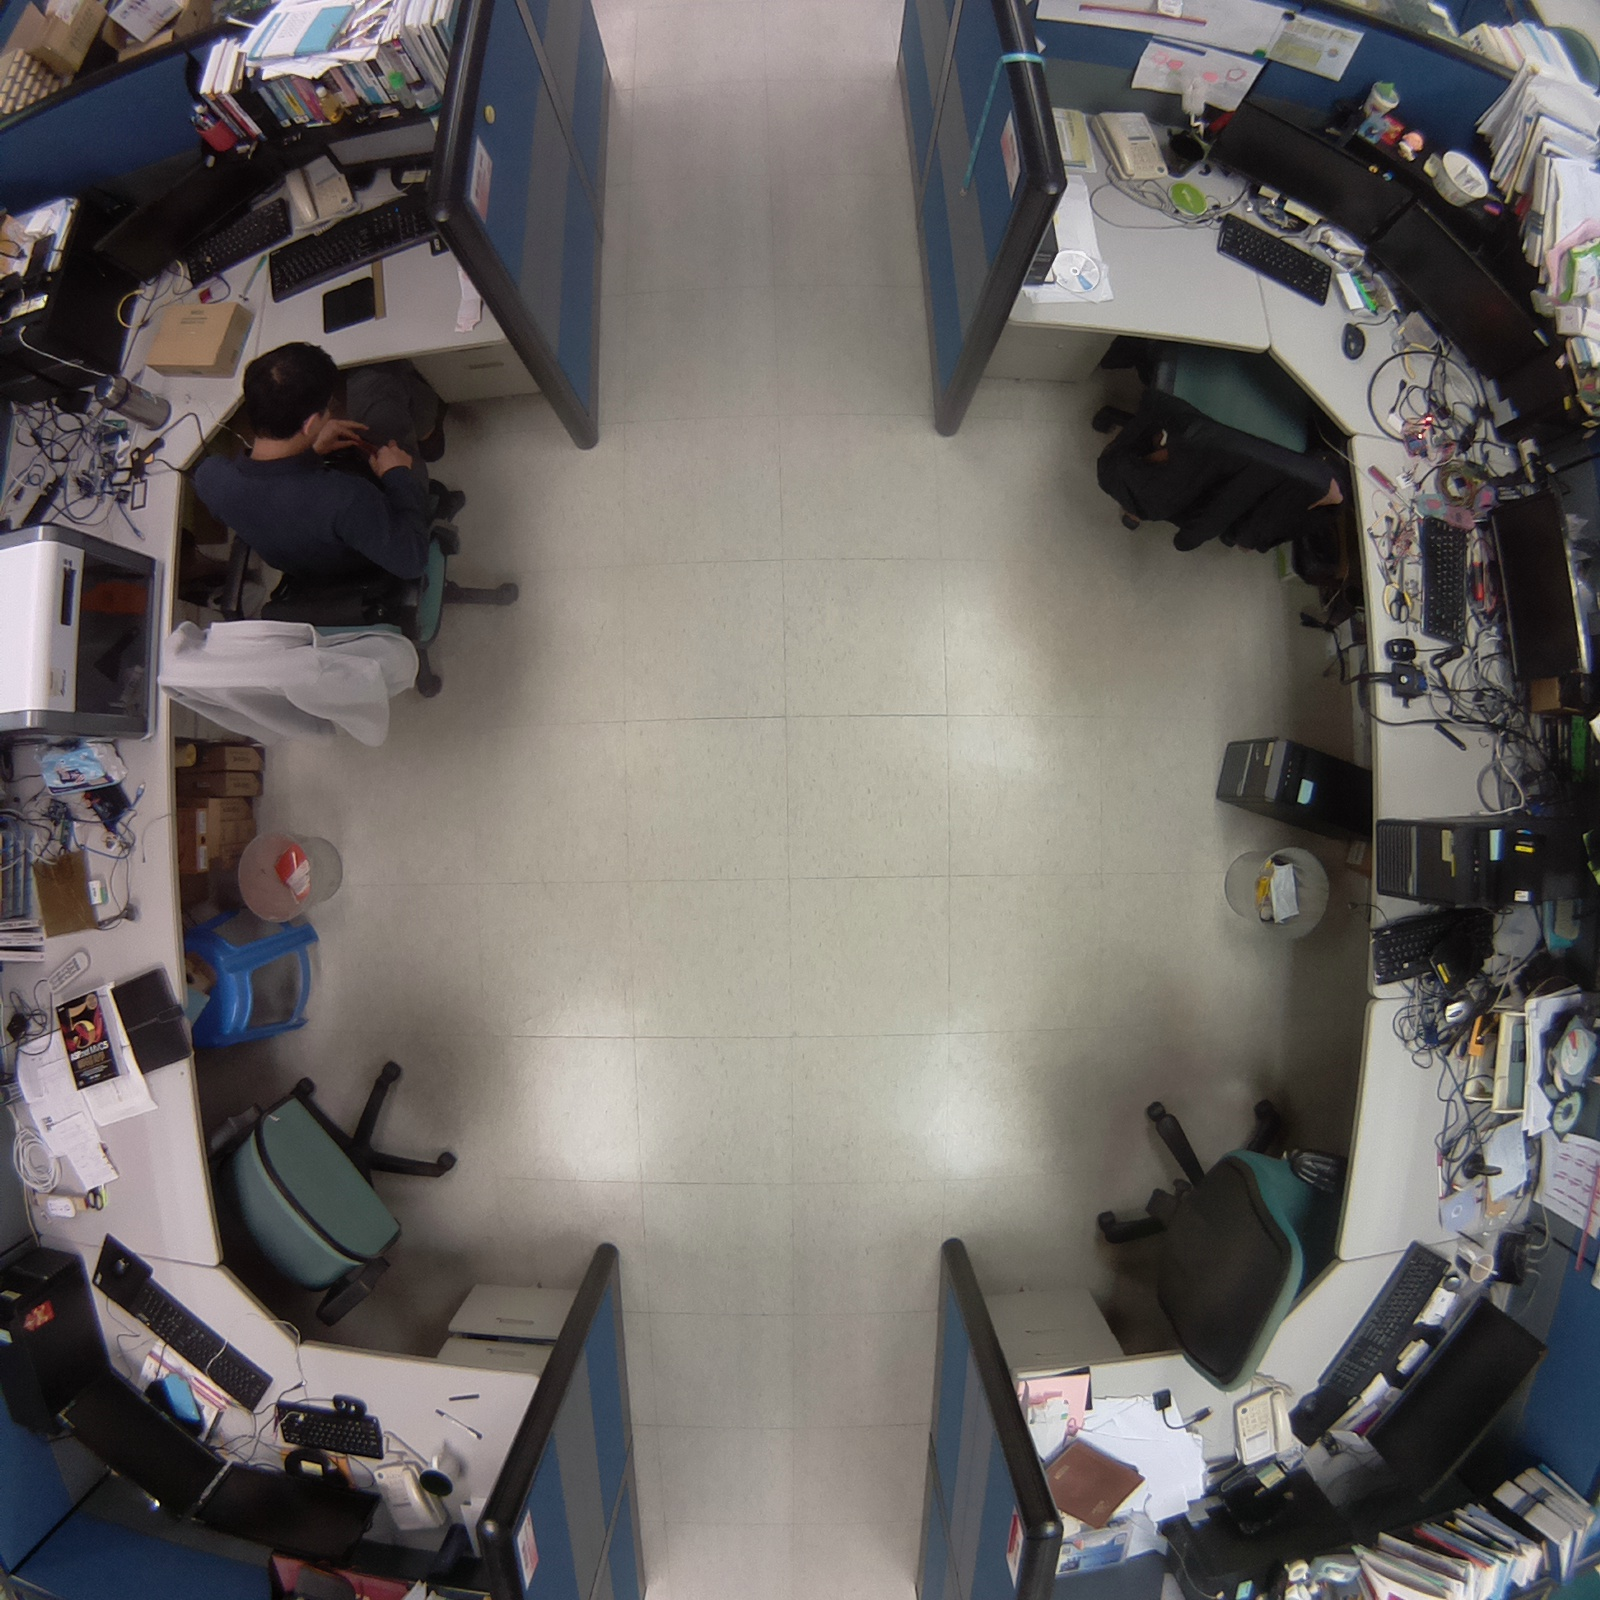chair: (168, 1040, 494, 1329), (1073, 1070, 1353, 1404), (1078, 314, 1363, 575)
head: (238, 338, 342, 444)
sitting: (135, 338, 537, 765)
